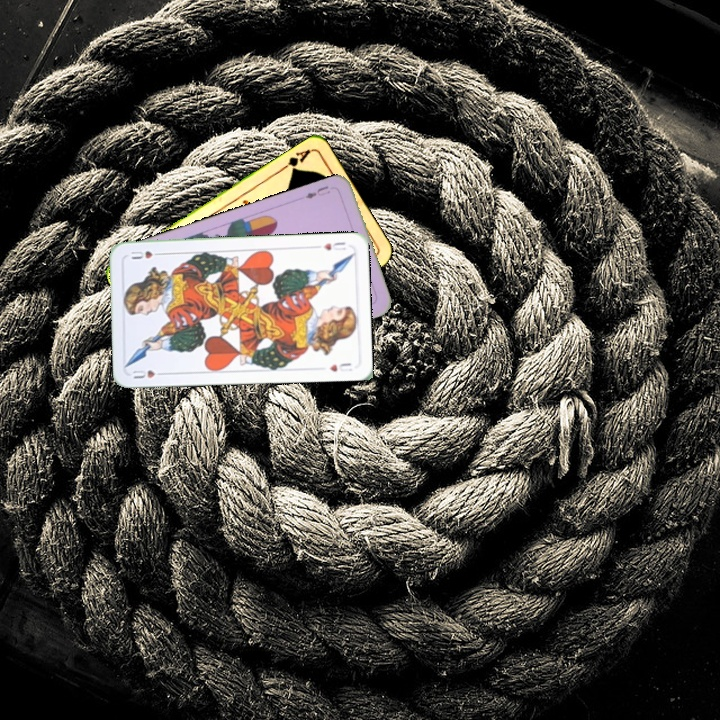EU: (301, 182, 333, 201)
GA: (277, 145, 314, 175)
HU: (129, 365, 168, 381), (319, 238, 348, 253)
